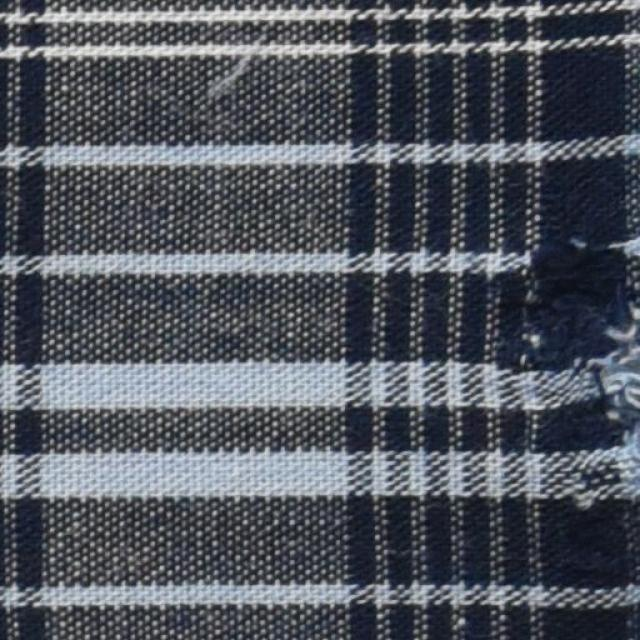Snag: (508, 220, 639, 528)
